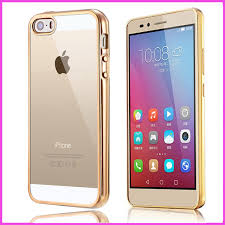iphone: (26, 7, 110, 213), (26, 5, 110, 211)
iphone4: (120, 7, 204, 213), (122, 7, 206, 213)
